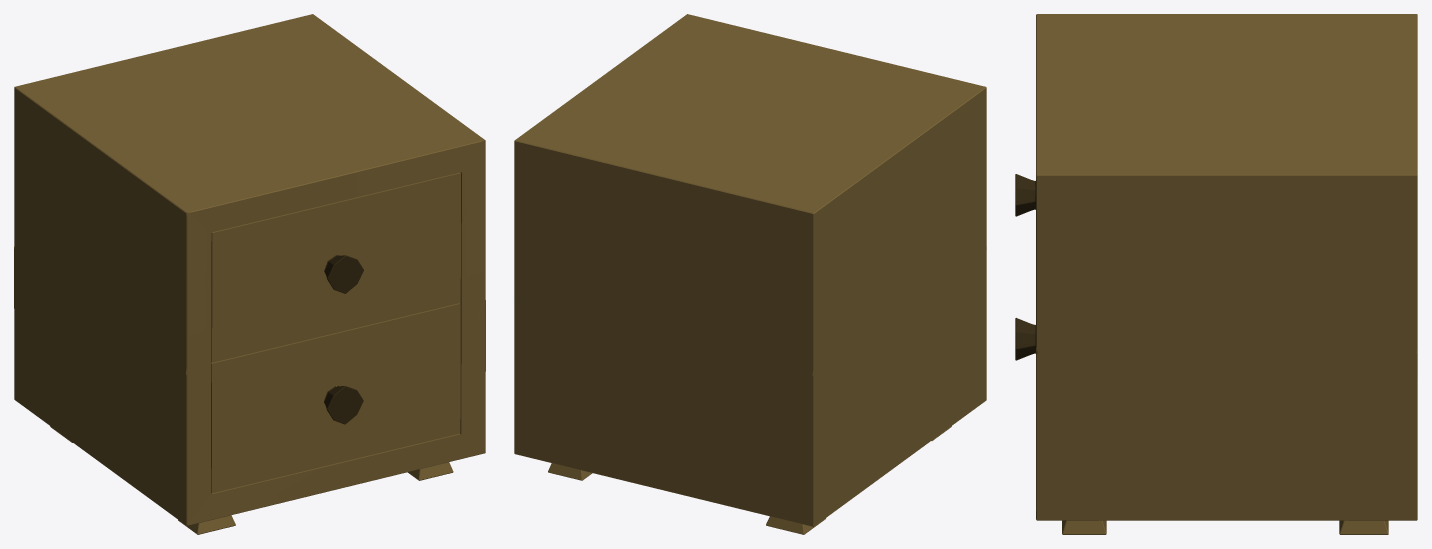
The model's file is chest_of_drawers.fbx.
3 renders of one model, left to right at view 1: azimuth 30°, elevation 25°; view 2: azimuth 150°, elevation 25°; view 3: azimuth 270°, elevation 25°, orthographic. The views are drawn at different scales.
Parts seen in each view (by area): view 1: pCube1; view 2: pCube1; view 3: pCube1.
Boxes of the visible parts, x1,y1,x2,y2 form: pCube1: (14, 14, 485, 534); pCube1: (514, 14, 986, 534); pCube1: (1015, 14, 1417, 534).
Bounding box in the file's own units: 1.22 × 1.31 × 1.28.
